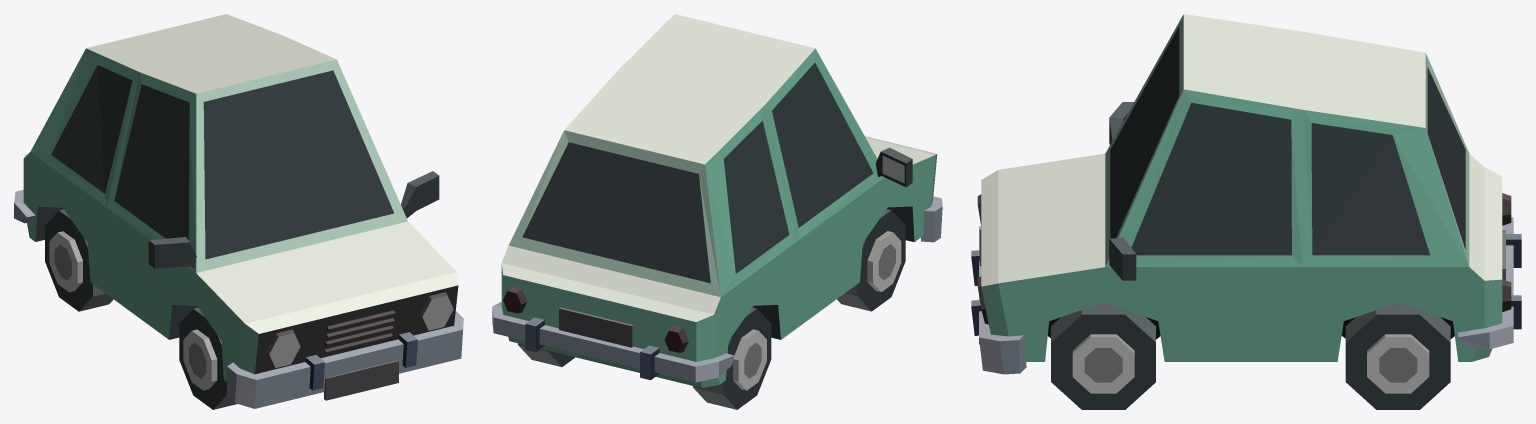
File: TB_CITY_Car_Small_E.FBX
3 views of the same model, side by side, from view 1: azimuth 30°, elevation 25°; view 2: azimuth 150°, elevation 25°; view 3: azimuth 270°, elevation 25° (orthographic). The views are drawn at different scales.
Parts seen in each view (by area): view 1: TB_CITY_Car_Small_E, TB_Car_Small_Wheel014, TB_Car_Small_Wheel013; view 2: TB_CITY_Car_Small_E, TB_Car_Small_Wheel014, TB_Car_Small_Wheel013, TB_Car_Small_Wheel015; view 3: TB_CITY_Car_Small_E, TB_Car_Small_Wheel015, TB_Car_Small_Wheel016.
Boxes of the visible parts, x1,y1,x2,y2 form: TB_CITY_Car_Small_E: (14, 14, 463, 408); TB_Car_Small_Wheel014: (45, 209, 113, 311); TB_Car_Small_Wheel013: (179, 307, 237, 409); TB_CITY_Car_Small_E: (492, 14, 942, 388); TB_Car_Small_Wheel014: (693, 307, 771, 409); TB_Car_Small_Wheel013: (837, 209, 905, 311); TB_Car_Small_Wheel015: (517, 343, 574, 366); TB_CITY_Car_Small_E: (971, 14, 1521, 374); TB_Car_Small_Wheel015: (1345, 302, 1450, 409); TB_Car_Small_Wheel016: (1051, 302, 1155, 409).
Bounding box in the file's own units: 3.12 × 2.88 × 4.76.
